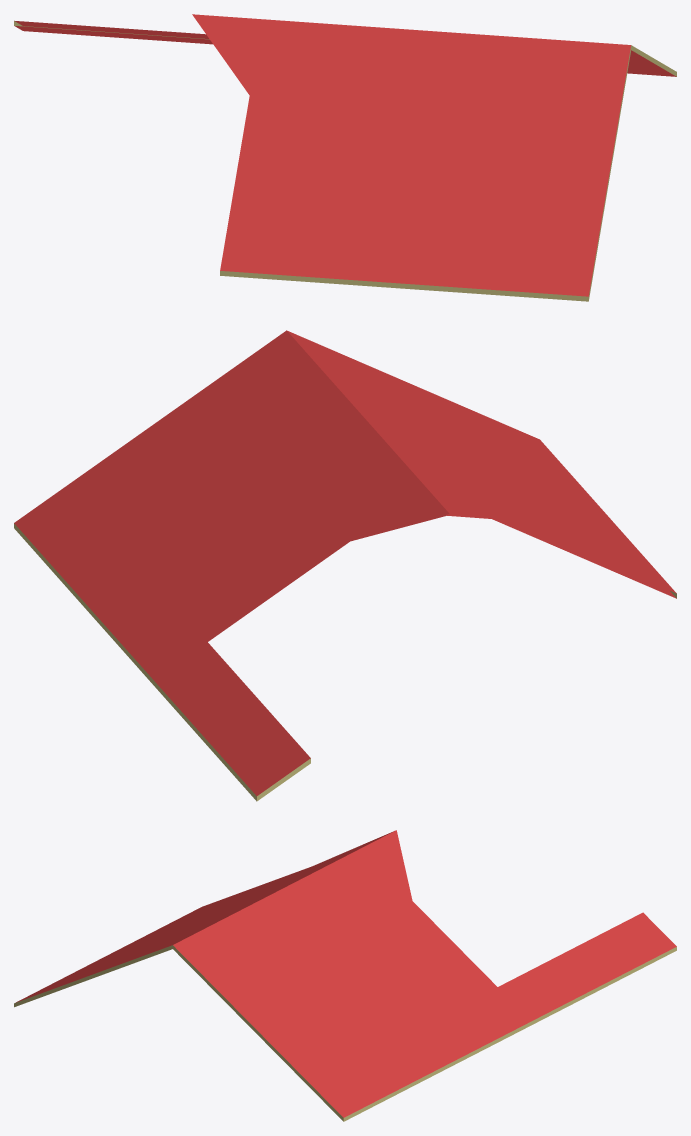
3 views of the same model, one above another, from view 1: azimuth 30°, elevation 25°; view 2: azimuth 150°, elevation 25°; view 3: azimuth 270°, elevation 25° (orthographic). The views are drawn at different scales.
Bounding box in the file's own units: 11.4 × 15.13 × 2.96.
